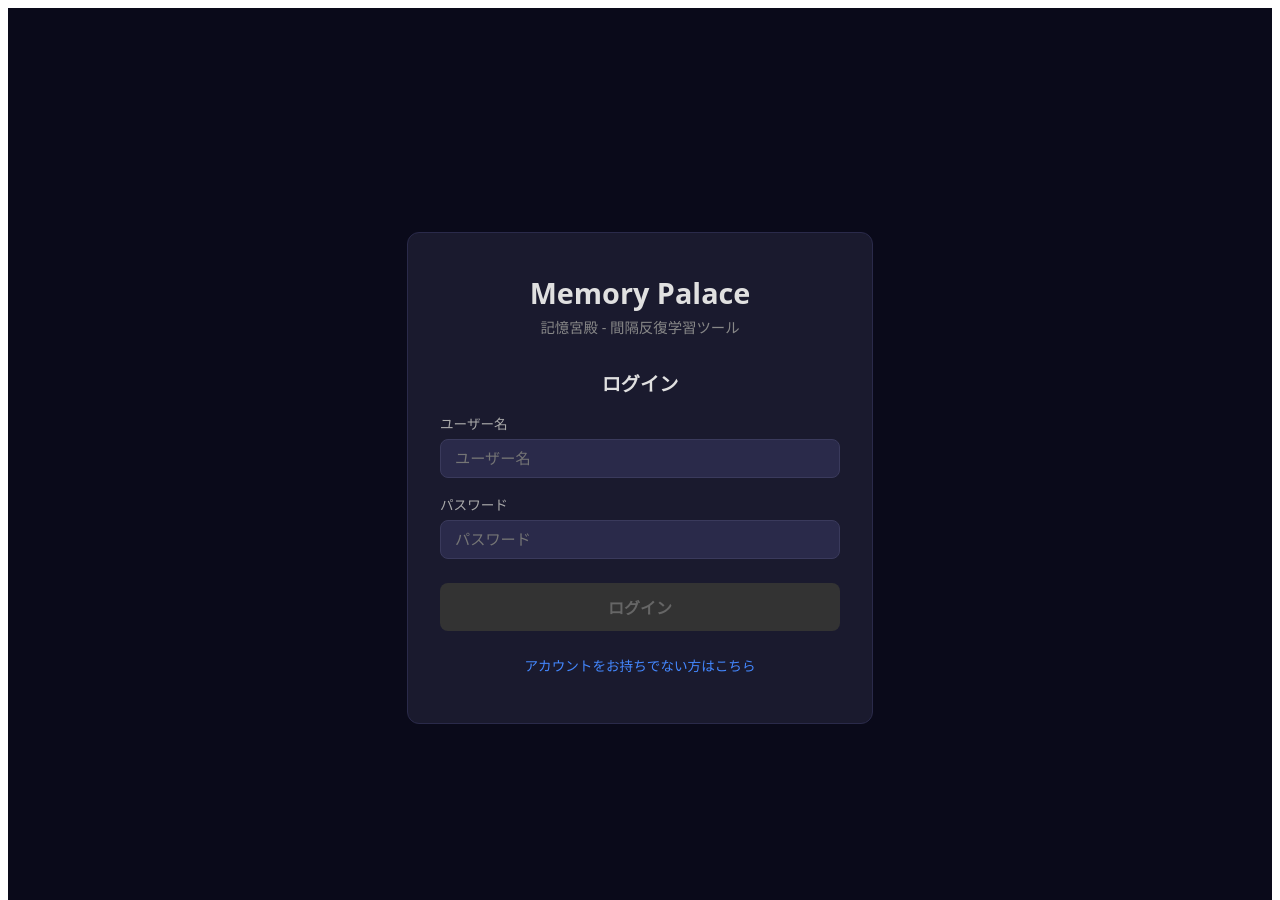
Test: LoginForm › toggles back to login form
This screenshot has width=1280, height=900.
Click the button with test id "auth-toggle" at (640, 665), box x1=440 y1=647 x2=840 y2=683
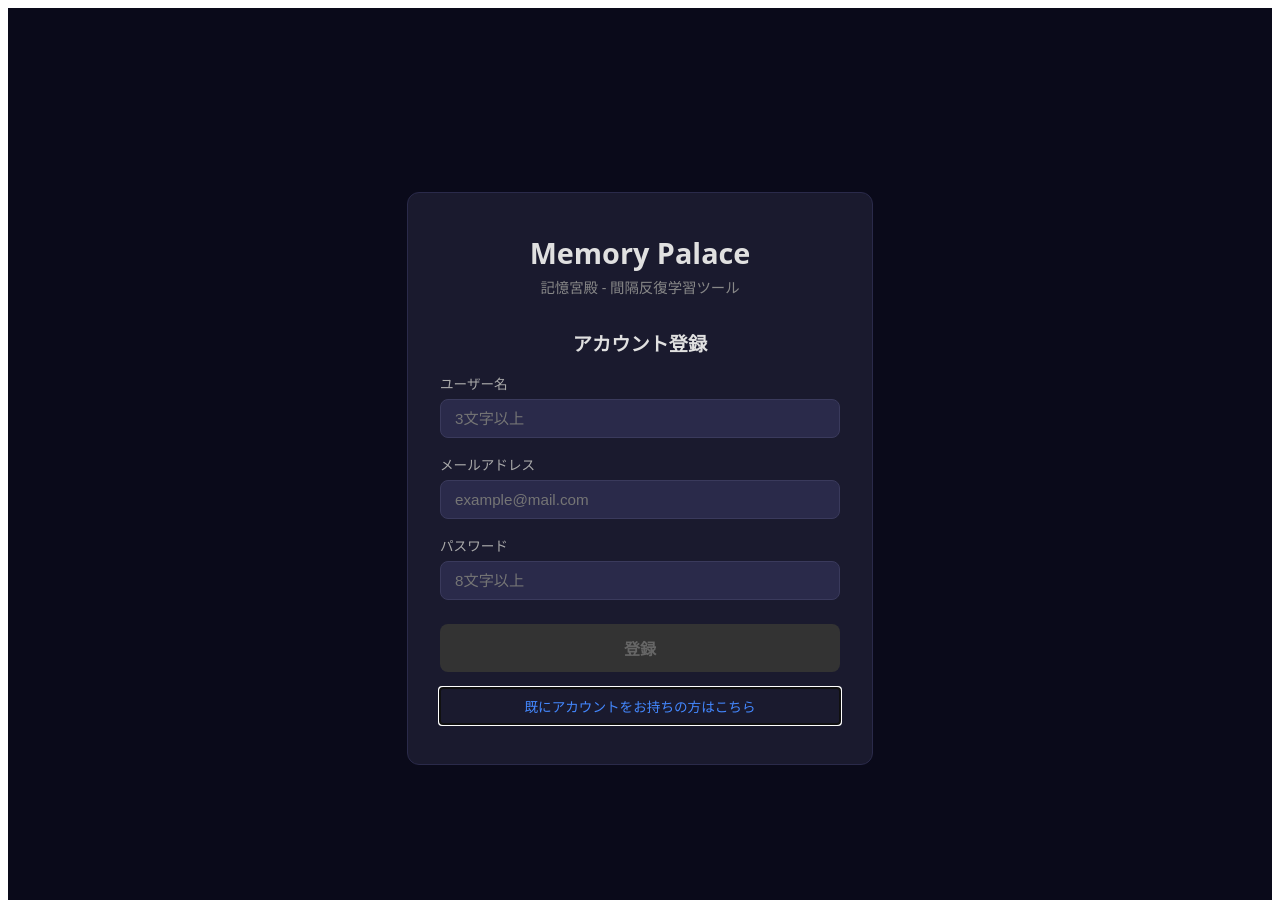
Click the button with test id "auth-toggle" at (640, 706), box x1=440 y1=688 x2=840 y2=724
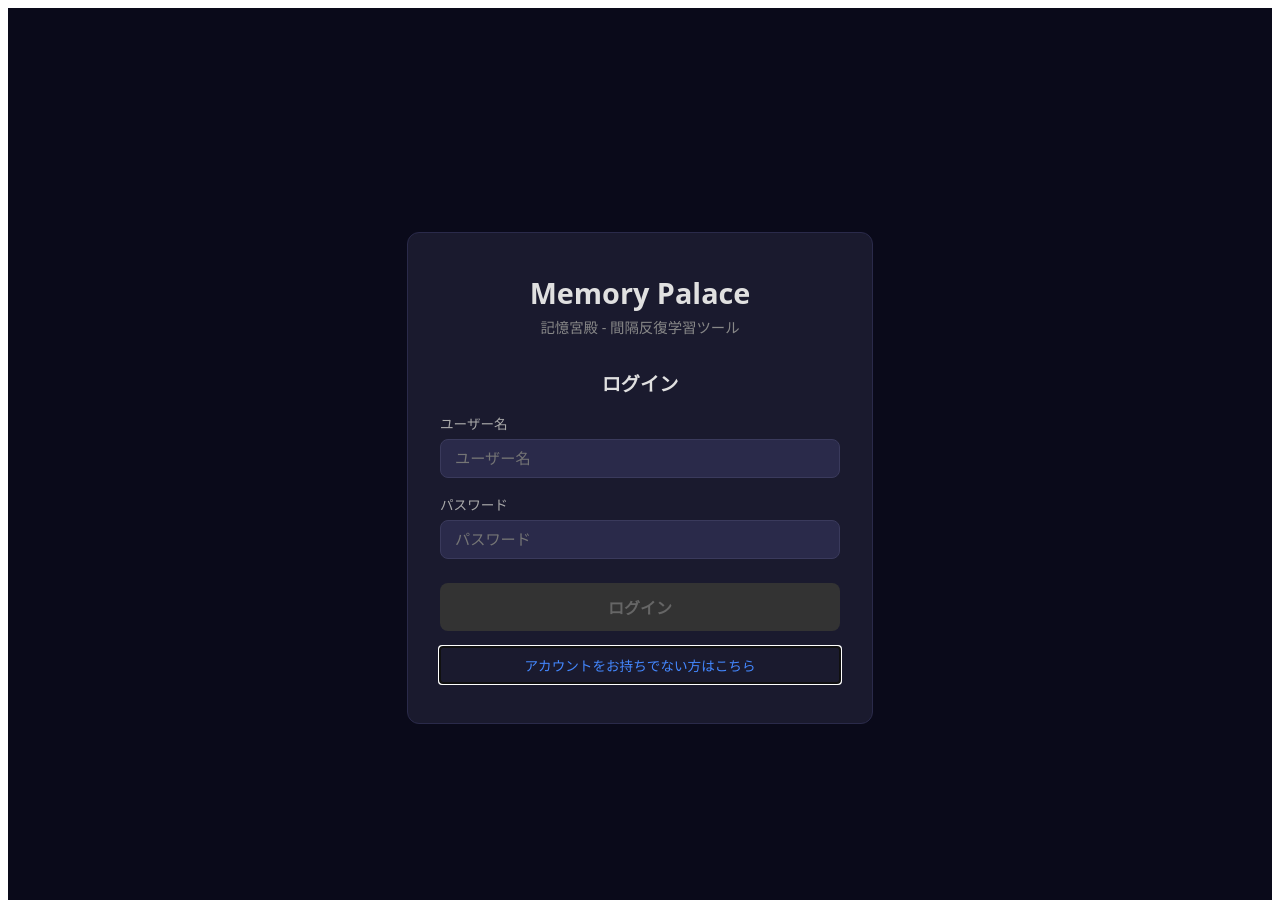
Now the heading with test id "form-title" reads "ログイン", box x1=602 y1=370 x2=678 y2=397
Now the label with test id "auth-email" is gone
